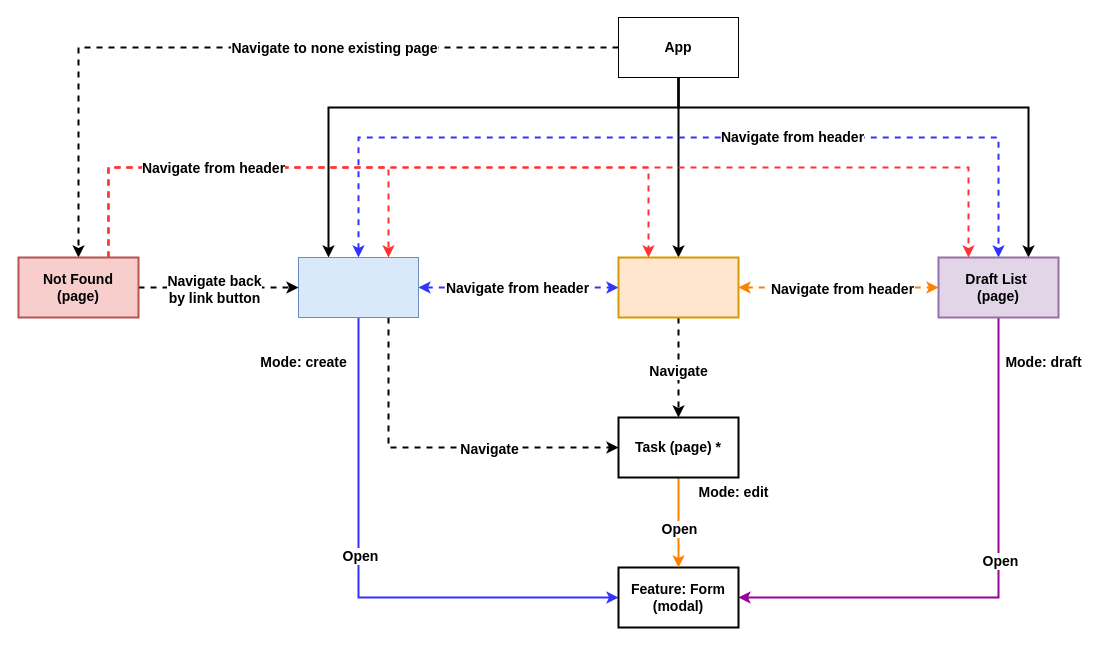
The diagram is 1105 pixels wide and 646 high, and some of its shapes have lost their labels. Each missing label, with the centre of its shape:
"Completed List (page)" belongs at (678,287).
"Home/ToDo List (page)" belongs at (358,287).
